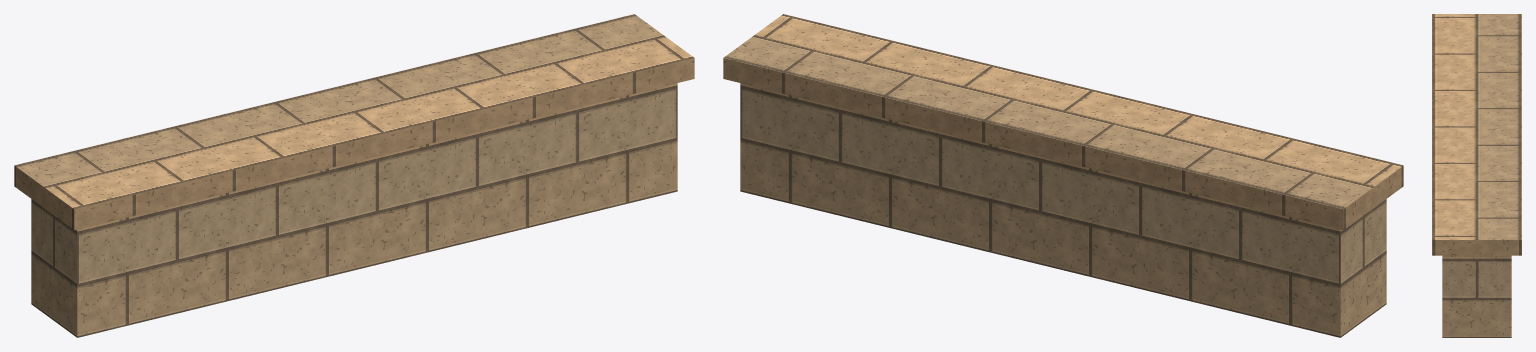
Rendered from stoneWall.glb.
3 views of the same model, side by side, from view 1: azimuth 30°, elevation 25°; view 2: azimuth 150°, elevation 25°; view 3: azimuth 270°, elevation 25° (orthographic). The views are drawn at different scales.
Visible parts, largest first — view 1: stoneWall; view 2: stoneWall; view 3: stoneWall.
Boxes of the visible parts, x1,y1,x2,y2 form: stoneWall: (14, 14, 694, 337); stoneWall: (723, 14, 1403, 337); stoneWall: (1432, 14, 1521, 337).
Bounding box in the file's own units: 3.1 × 0.65 × 0.52.
Materials: 1 (1 with a texture image).
